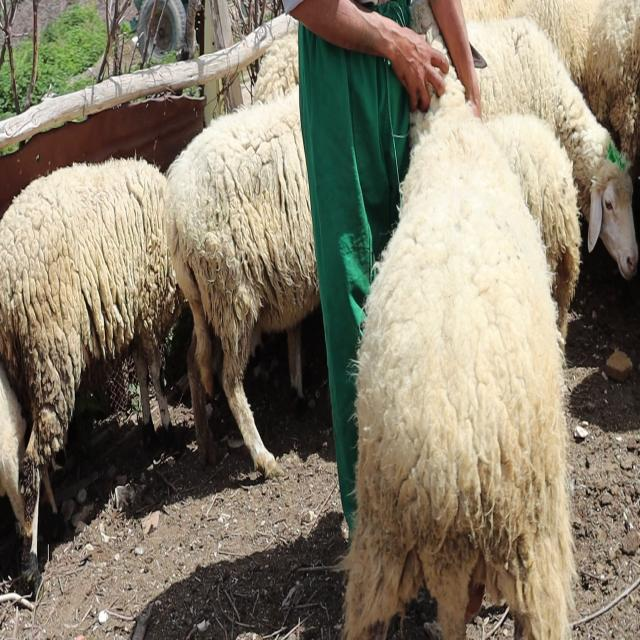Score_5: (343, 71, 575, 639)
